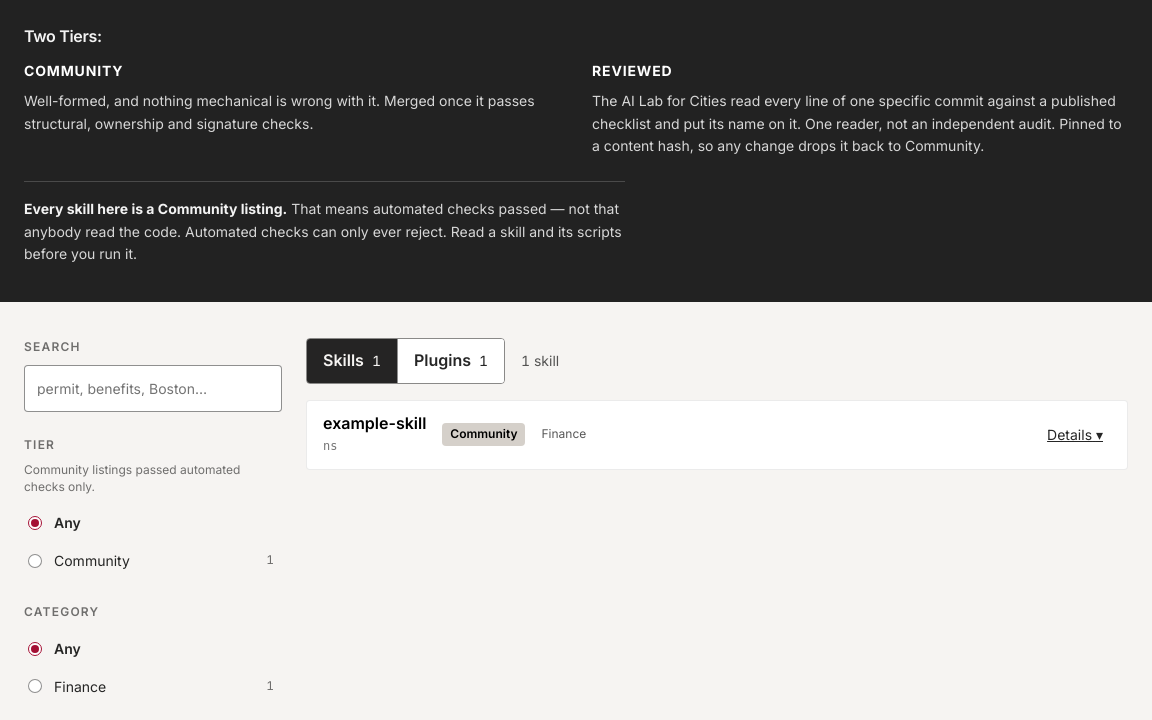
Test: the browse page › shows plugins in their own section, one click from the skills
This screenshot has width=1152, height=720.
(page scrolled)
Expected: the message with class "results__count" reads "1 skill", x1=521 y1=352 x2=559 y2=369
What coordinates should you click on to do the following:
click the link "Plugins 1"
I would click on:
 (451, 360)
Its box is x1=397 y1=338 x2=504 y2=382.
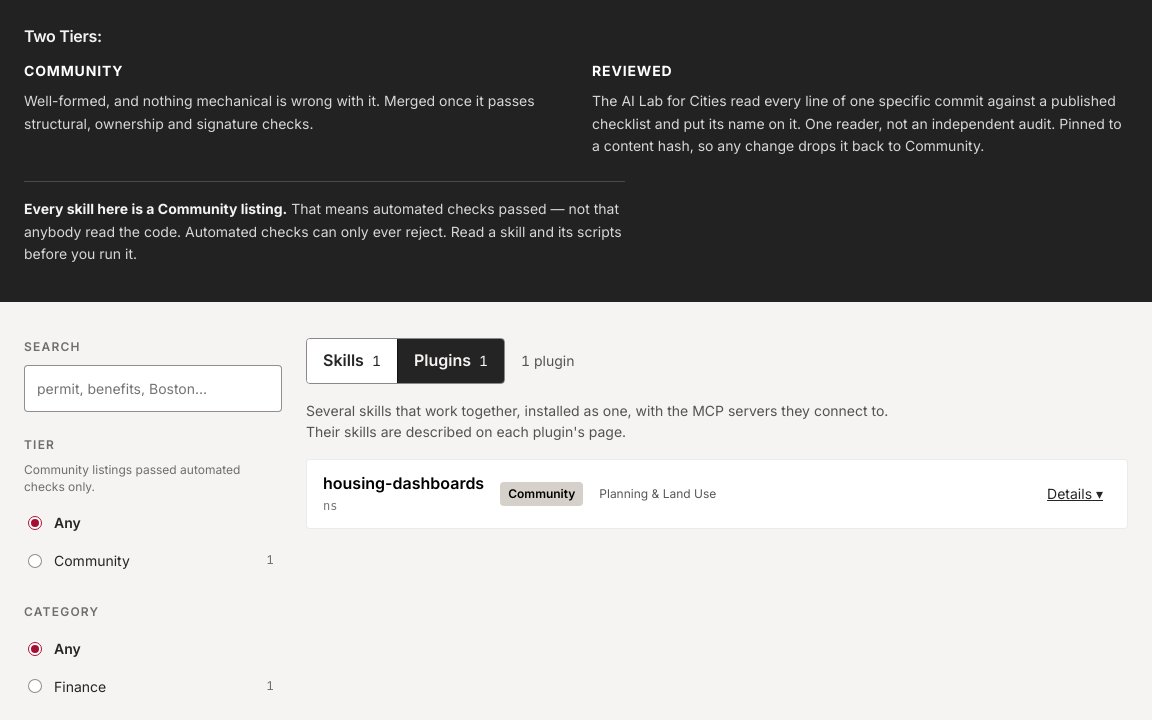
Expected: the link "example-skill" is gone
